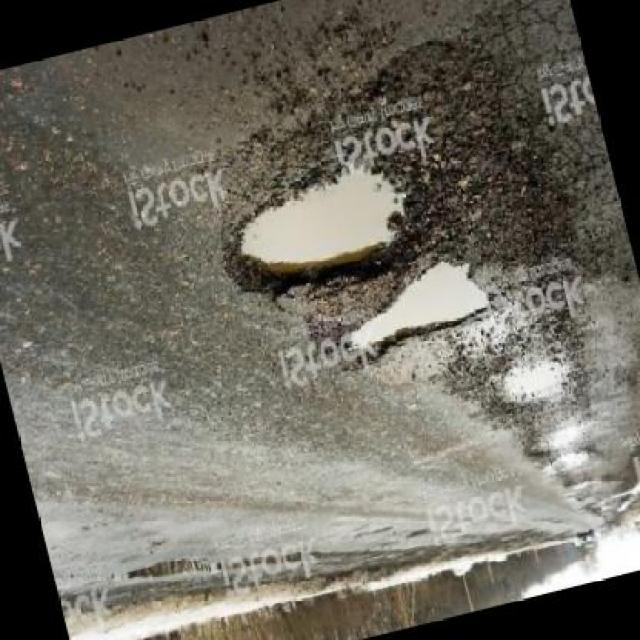pothole1: (198, 131, 457, 324), (326, 253, 503, 375), (492, 349, 574, 417), (522, 422, 590, 466), (540, 450, 595, 484)
